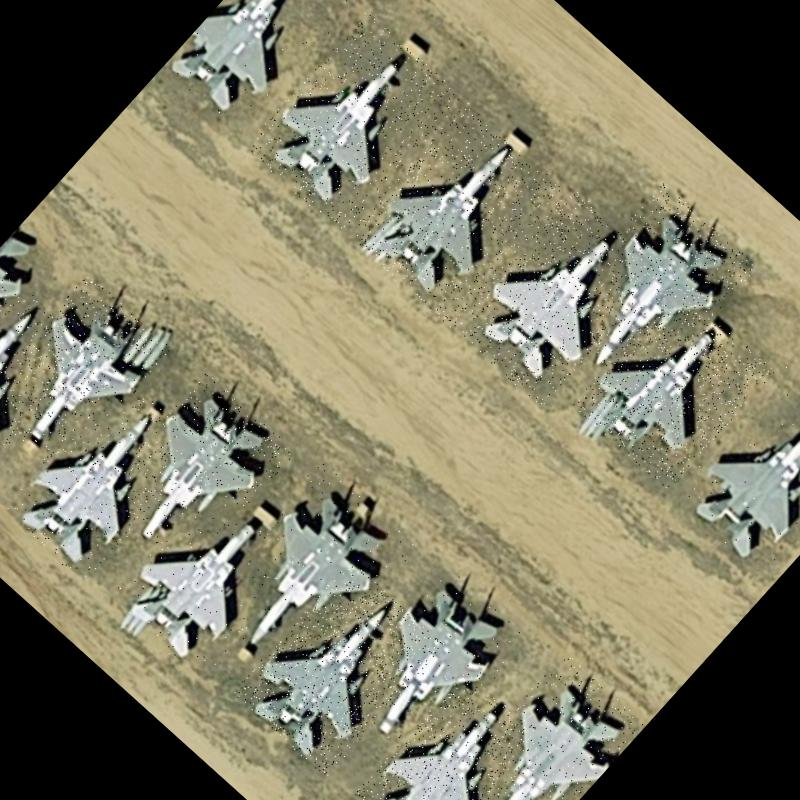A13: (345, 101, 569, 328), (243, 10, 463, 235), (202, 458, 418, 678), (449, 187, 664, 408), (230, 560, 444, 778), (546, 182, 757, 397), (0, 374, 206, 584), (570, 284, 774, 491), (331, 560, 533, 766), (105, 481, 307, 686), (98, 372, 296, 572), (0, 273, 170, 474), (443, 651, 645, 800), (667, 356, 800, 579), (161, 0, 356, 136), (350, 670, 547, 800), (0, 262, 96, 490)
